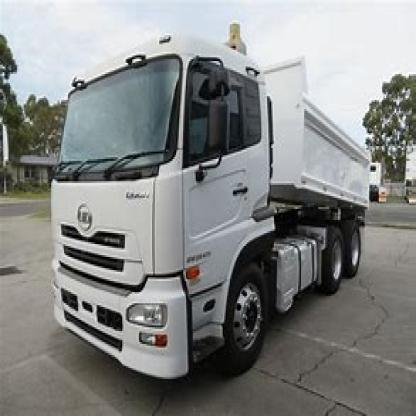dump_truck: (47, 20, 385, 392)
